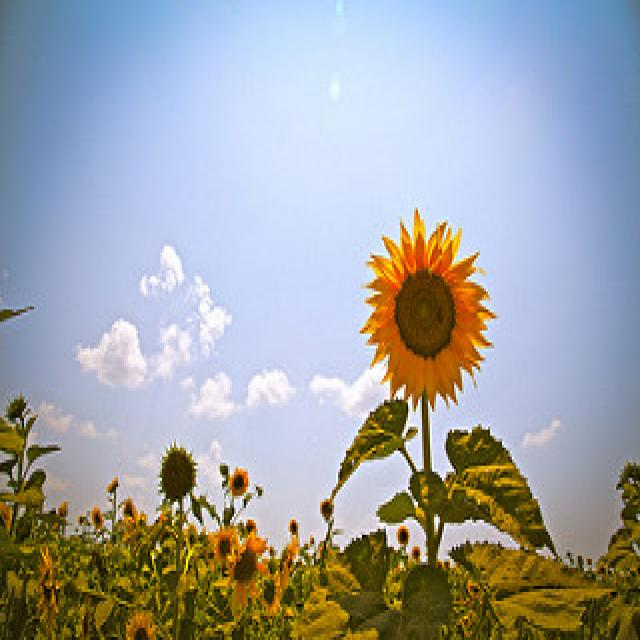sunflower: (362, 209, 495, 410), (158, 443, 198, 504), (260, 571, 284, 619), (215, 524, 238, 566), (125, 607, 154, 640), (229, 466, 250, 498)
